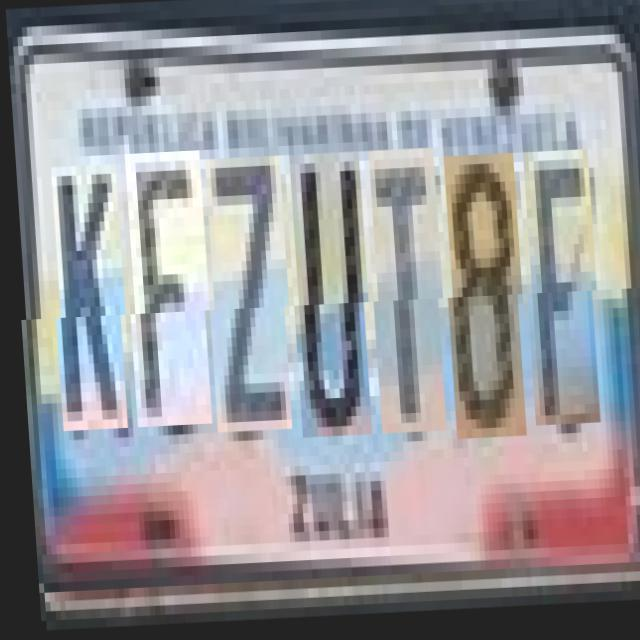8: (442, 158, 526, 444)
F: (122, 152, 212, 428), (520, 156, 600, 432)
K: (49, 165, 127, 431)
T: (366, 152, 446, 437)
U: (287, 156, 371, 440)
Z: (202, 158, 291, 434)
